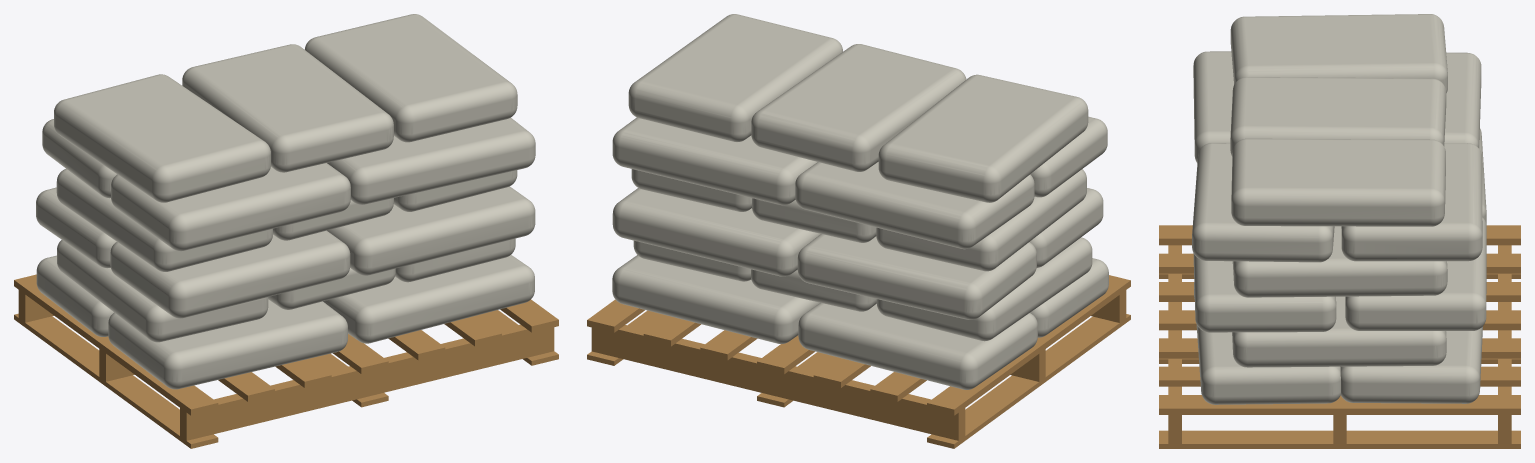
The model's file is Pallet_of_Concrete_Bags.glb.
The picture shows the model from 3 angles, left to right: view 1: azimuth 30°, elevation 25°; view 2: azimuth 150°, elevation 25°; view 3: azimuth 270°, elevation 25°; orthographic projection. The views are drawn at different scales.
Visible parts, largest first — view 1: bag_L5_2_222bf0, deck_board_6_3cee57; view 2: bag_L5_2_222bf0, deck_board_6_3cee57; view 3: bag_L5_2_222bf0, deck_board_6_3cee57.
Boxes of the visible parts, bbox=[...] form: bag_L5_2_222bf0: bbox=[36, 14, 535, 389]; deck_board_6_3cee57: bbox=[14, 274, 558, 448]; bag_L5_2_222bf0: bbox=[612, 14, 1108, 389]; deck_board_6_3cee57: bbox=[587, 275, 1130, 448]; bag_L5_2_222bf0: bbox=[1192, 14, 1486, 404]; deck_board_6_3cee57: bbox=[1159, 225, 1520, 448].
Size of the model in its own units: 24.69 by 15.8 by 20.32.
